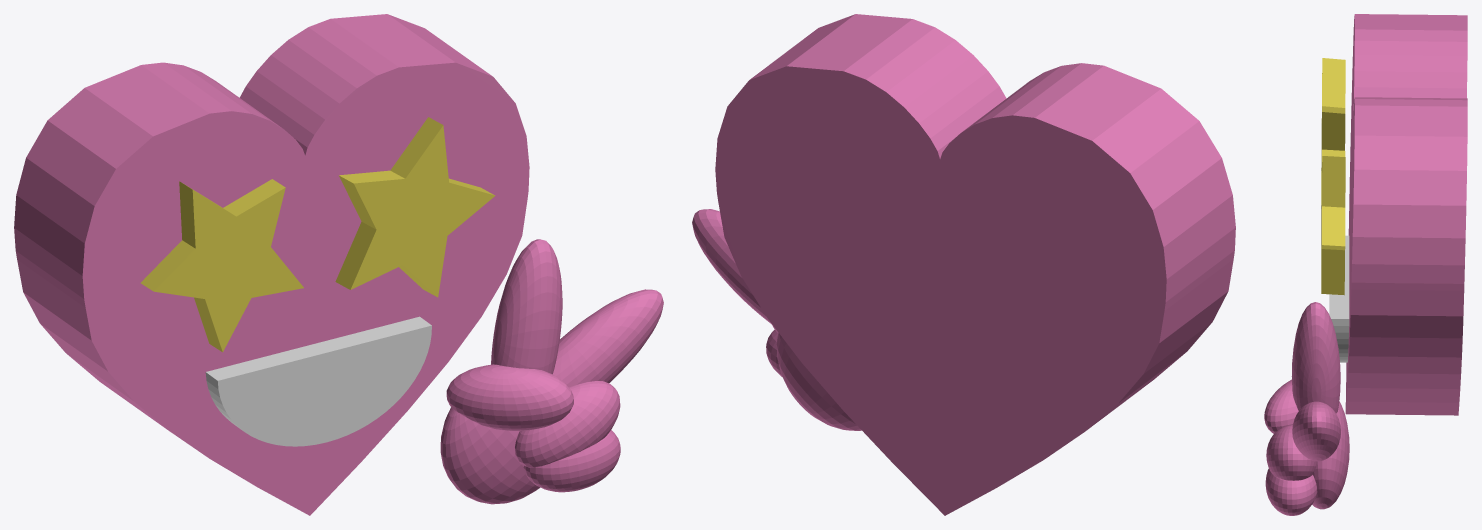
File: heart.glb
3 renders of one model, left to right at view 1: azimuth 30°, elevation 25°; view 2: azimuth 150°, elevation 25°; view 3: azimuth 270°, elevation 25°, orthographic. The views are drawn at different scales.
Visible parts, largest first — view 1: Mesh_Mesh_head_geo.001_lambert2SG.001; view 2: Mesh_Mesh_head_geo.001_lambert2SG.001; view 3: Mesh_Mesh_head_geo.001_lambert2SG.001.
Part boxes in pixels (bbox=[...]): Mesh_Mesh_head_geo.001_lambert2SG.001: bbox=[14, 14, 663, 515]; Mesh_Mesh_head_geo.001_lambert2SG.001: bbox=[692, 14, 1235, 515]; Mesh_Mesh_head_geo.001_lambert2SG.001: bbox=[1264, 14, 1467, 515].
Size of the model in its own units: 0.0652 by 0.0492 by 0.025.
